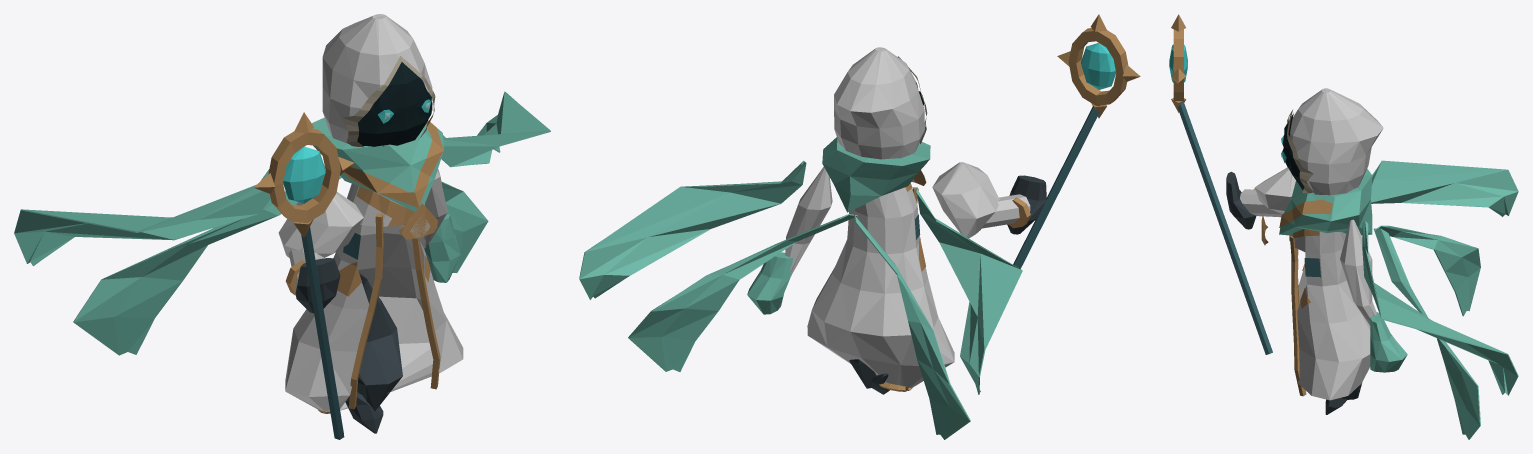
File: gale-caster-model.glb
3 views of the same model, side by side, from view 1: azimuth 30°, elevation 25°; view 2: azimuth 150°, elevation 25°; view 3: azimuth 270°, elevation 25° (orthographic). The views are drawn at different scales.
Parts seen in each view (by area): view 1: SplitRobe, ScarfLower.L, ScarfUpper.L, PointedHood, Mantle, ScarfUpper.R, StaffRing, ShadowLegs, Sleeve.L, StaffShaft, FaceVoid.L, MantleBinding (+12 smaller); view 2: SplitRobe, ScarfUpper.R, PointedHood, ScarfLower.R, ScarfUpper.L, Mantle, ScarfLower.L, Sleeve.L, StaffRing, Sleeve.R, Hand.R, StaffShaft (+3 smaller); view 3: SplitRobe, PointedHood, ScarfUpper.L, ScarfUpper.R, ScarfLower.R, Mantle, ScarfLower.L, StaffShaft, Sleeve.R, Hand.R, Sleeve.L, FrontBinding.R (+6 smaller).
Boxes of the visible parts, x1,y1,x2,y2 form: SplitRobe: [285, 184, 463, 410]; ScarfLower.L: [73, 176, 341, 355]; ScarfUpper.L: [14, 169, 270, 266]; PointedHood: [322, 14, 432, 143]; Mantle: [312, 117, 443, 211]; ScarfUpper.R: [441, 91, 550, 167]; StaffRing: [268, 128, 340, 222]; ShadowLegs: [357, 272, 402, 410]; Sleeve.L: [278, 191, 363, 257]; StaffShaft: [301, 226, 344, 439]; FaceVoid.L: [357, 64, 406, 146]; MantleBinding: [313, 120, 443, 207]; SplitRobe: [807, 187, 954, 391]; ScarfUpper.R: [579, 160, 806, 299]; PointedHood: [834, 47, 924, 159]; ScarfLower.R: [628, 214, 857, 371]; ScarfUpper.L: [915, 188, 1022, 394]; Mantle: [822, 137, 930, 212]; ScarfLower.L: [853, 215, 970, 439]; Sleeve.L: [932, 162, 999, 238]; StaffRing: [1068, 28, 1128, 105]; Sleeve.R: [785, 167, 832, 275]; Hand.R: [747, 252, 792, 314]; StaffShaft: [1013, 105, 1099, 268]; SplitRobe: [1294, 231, 1370, 400]; PointedHood: [1290, 88, 1383, 195]; ScarfUpper.L: [1371, 160, 1518, 216]; ScarfUpper.R: [1362, 220, 1518, 395]; ScarfLower.R: [1374, 228, 1480, 439]; Mantle: [1279, 168, 1372, 235]; ScarfLower.L: [1374, 225, 1480, 316]; StaffShaft: [1177, 101, 1272, 354]; Sleeve.R: [1340, 219, 1376, 325]; Hand.R: [1370, 312, 1407, 372]; Sleeve.L: [1255, 167, 1295, 213]; FrontBinding.R: [1290, 236, 1306, 396].
Bounding box in the file's own units: 1.19 × 1.01 × 0.9521.
